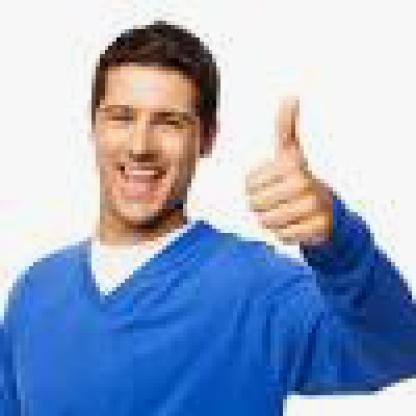Thumbs up: (250, 90, 336, 240)
